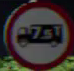Heavy Vehicles: (5, 4, 68, 65)
